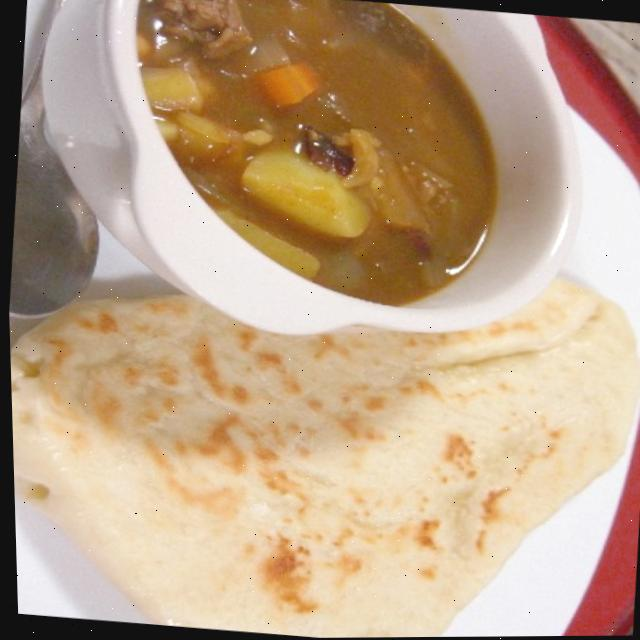牛肉菜式: (0, 14, 533, 374)
